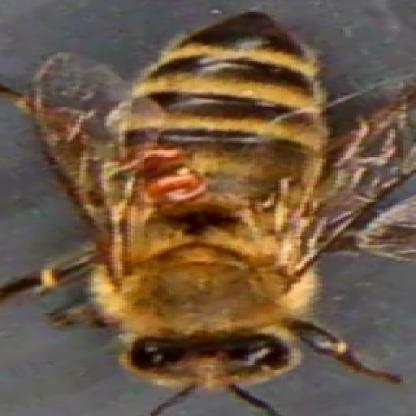bee: (94, 6, 330, 393)
vaoora: (150, 174, 210, 206), (133, 145, 180, 169)
